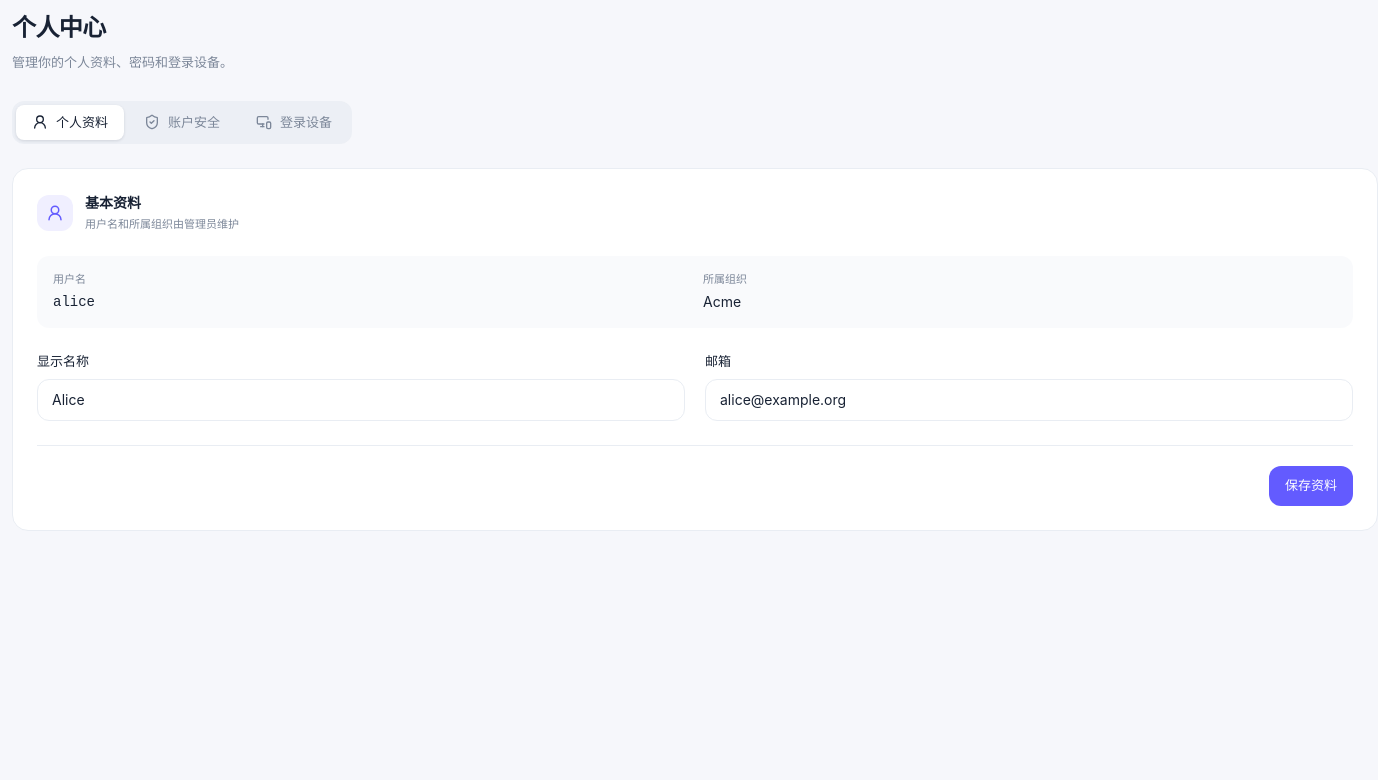
it: account view › saves the profile and reports invalid values
The width and height of the screenshot is (1378, 780).
Step 1. Replace the text in the field labelled "显示名称" with "爱丽丝" → (361, 400), box 37,379 -> 685,421
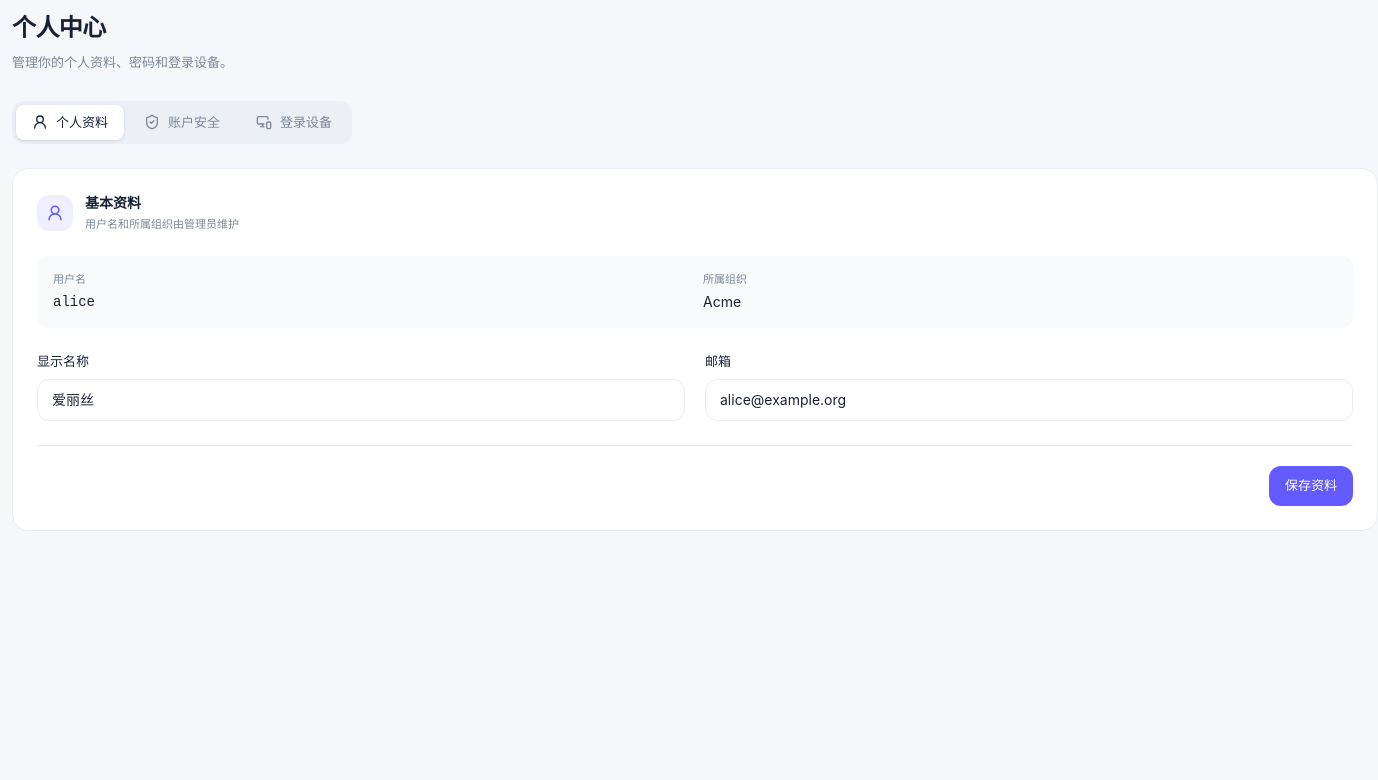
Step 2. Submit the form, box 37,352 -> 1353,506
Step 3. Submit the form, box 37,352 -> 1353,506
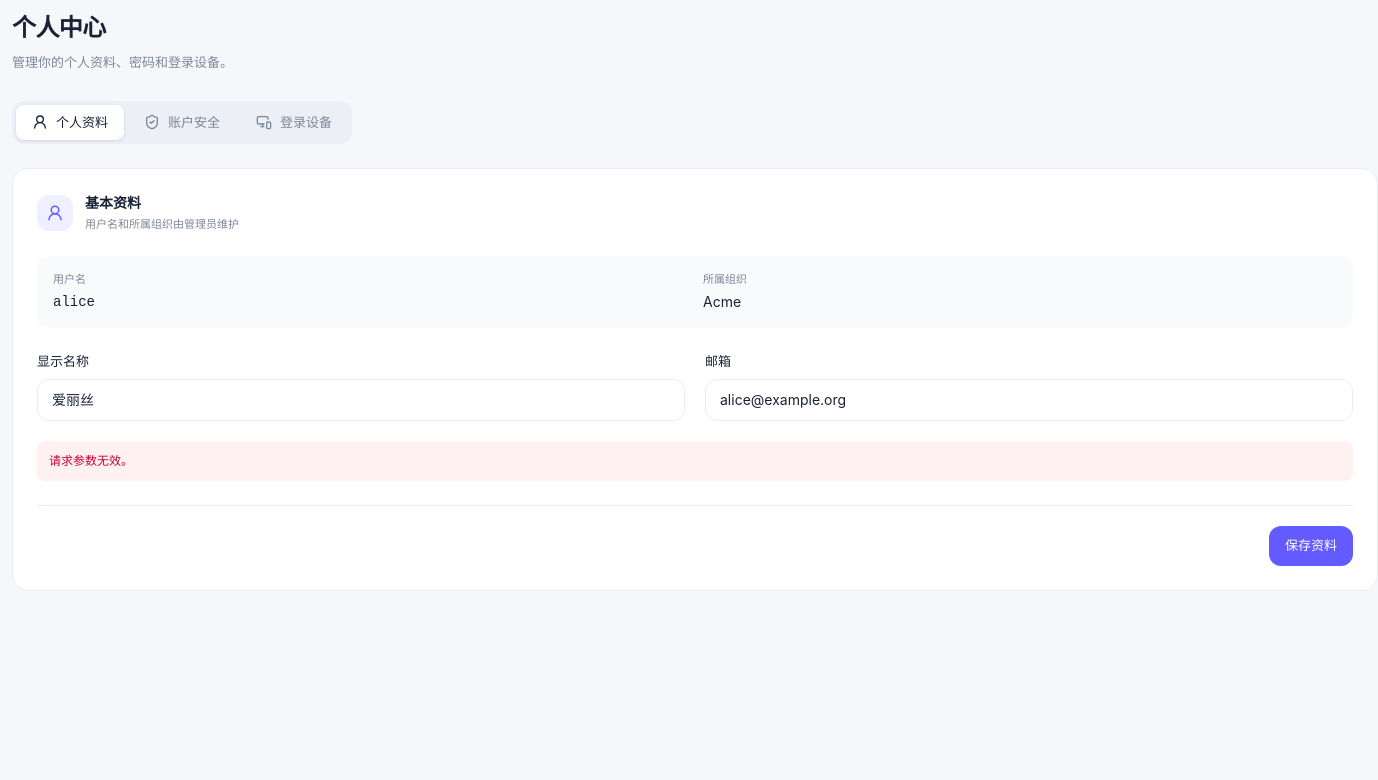
Check: the message "请求参数无效。" is shown, box 37,441 -> 1353,481
